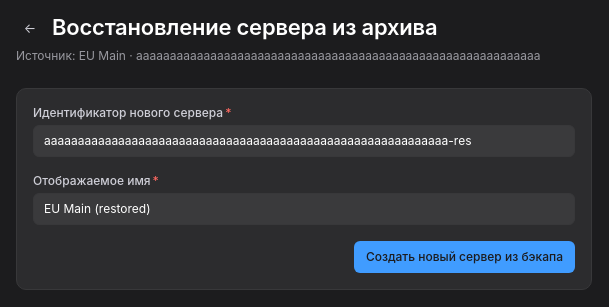
Test case: RestorePage › длинный slug архива обрезается до лимита схемы, а сбой сети показывается ошибкой
Click the button "Создать новый сервер из бэкапа": click(464, 257) [354,241,575,273]
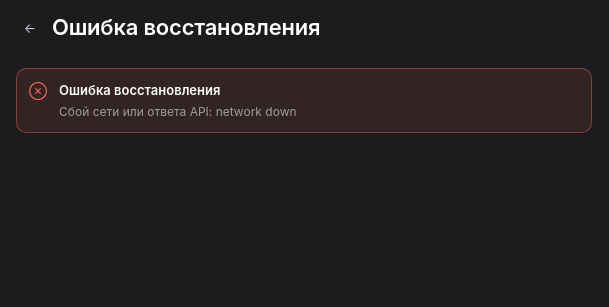
Expected: the text "Сбой сети или ответа API: network down" is shown, [59,104,297,119]
